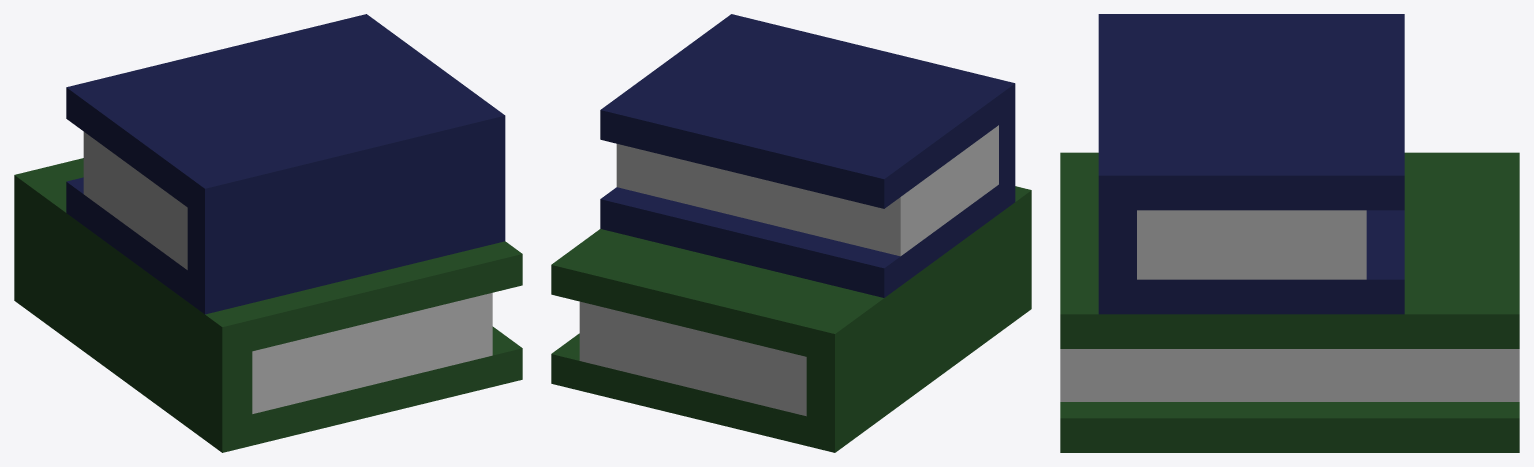
The model's file is books_03.dae.
The picture shows the model from 3 angles, left to right: view 1: azimuth 30°, elevation 25°; view 2: azimuth 150°, elevation 25°; view 3: azimuth 270°, elevation 25°; orthographic projection. The views are drawn at different scales.
Parts seen in each view (by area): view 1: Untitled; view 2: Untitled; view 3: Untitled.
Part boxes in pixels (x1,y1,x2,y2): Untitled: (14,14,522,452); Untitled: (551,14,1031,452); Untitled: (1060,14,1519,452).
Bounding box in the file's own units: 0.3 × 0.36 × 0.24.
Materials: 1 (1 with a texture image).
